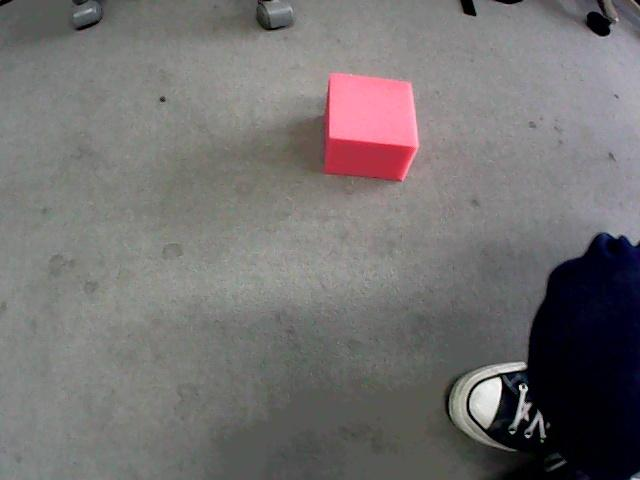red_block: (325, 74, 418, 180)
